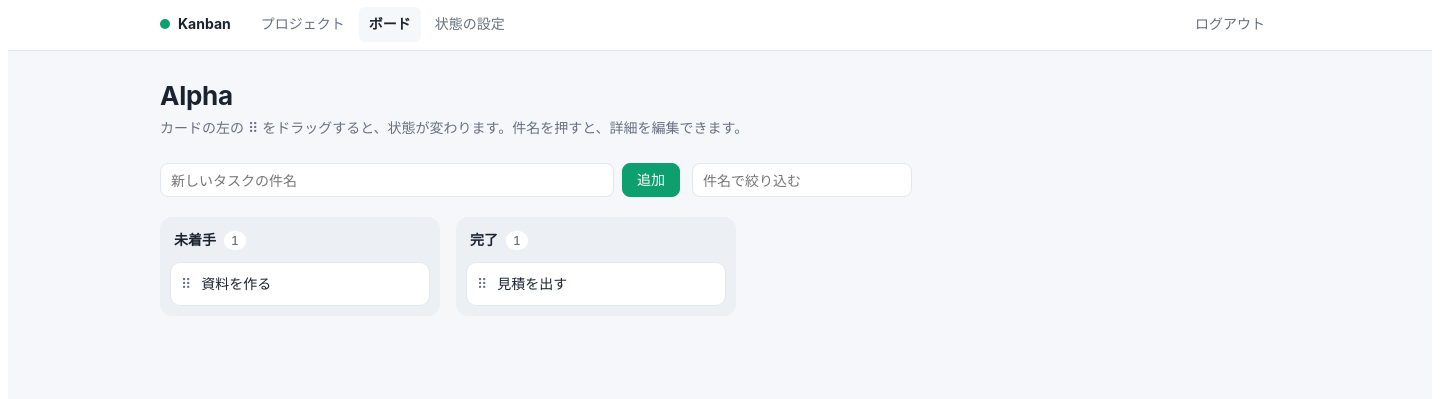
Test: board: shows a lane per status, filters by title, adds to the first lane
The image size is (1440, 399).
Expected: the text "資料を作る" is shown, [201,275,271,292]
Expected: the element named "完了 1件" is shown, [456,217,736,316]
Type "見積" into the search field labelled "件名で絞り込む". click: (802, 180)
box: [692,163,912,197]
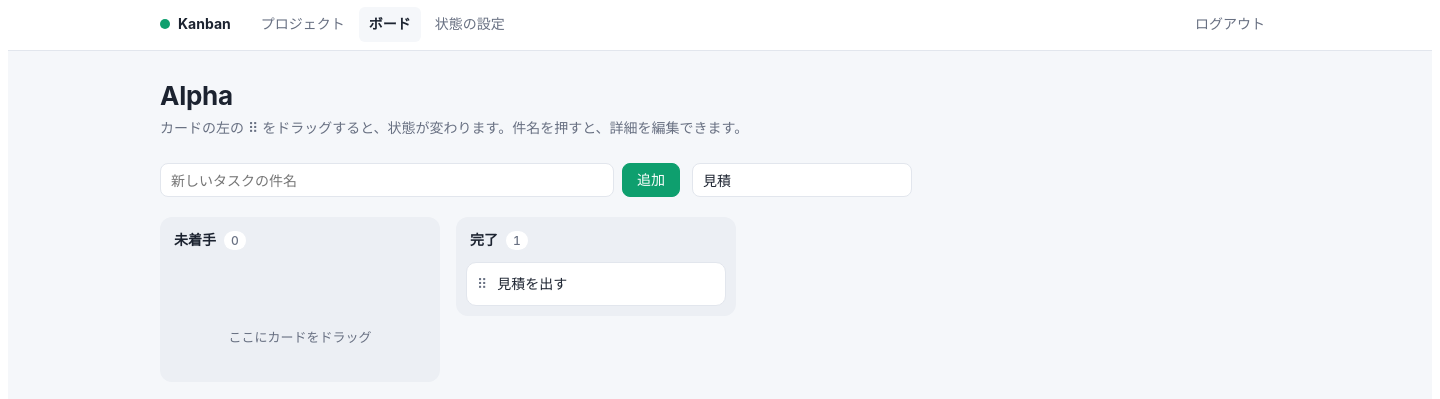
Now the link "資料を作る" is gone
Clear the search field named "件名で絞り込む". click: (802, 180)
box: [692,163,912,197]
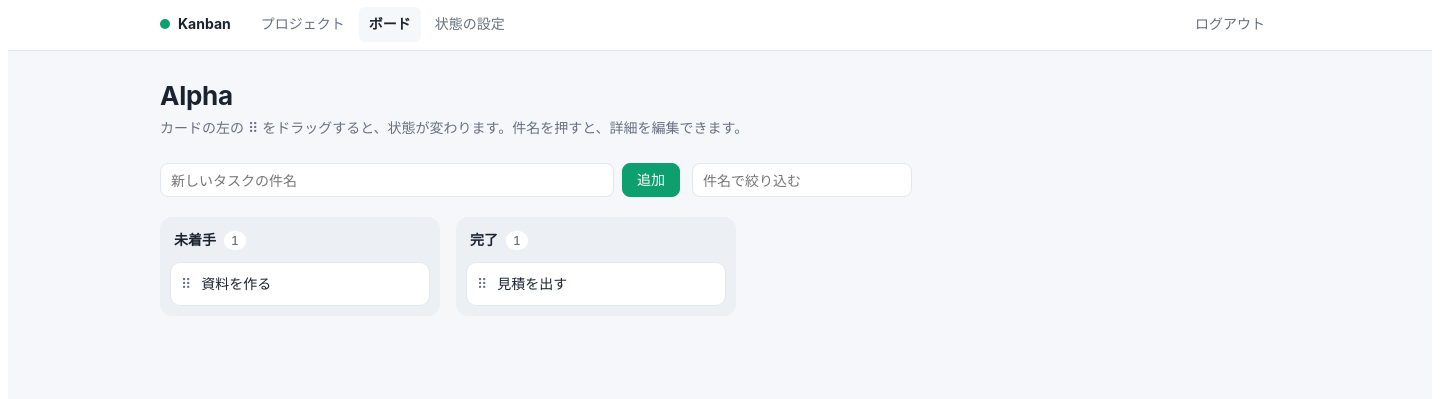
Type "会議" into the field with test id "new-task-title". click: (387, 180)
box: [160,163,614,197]
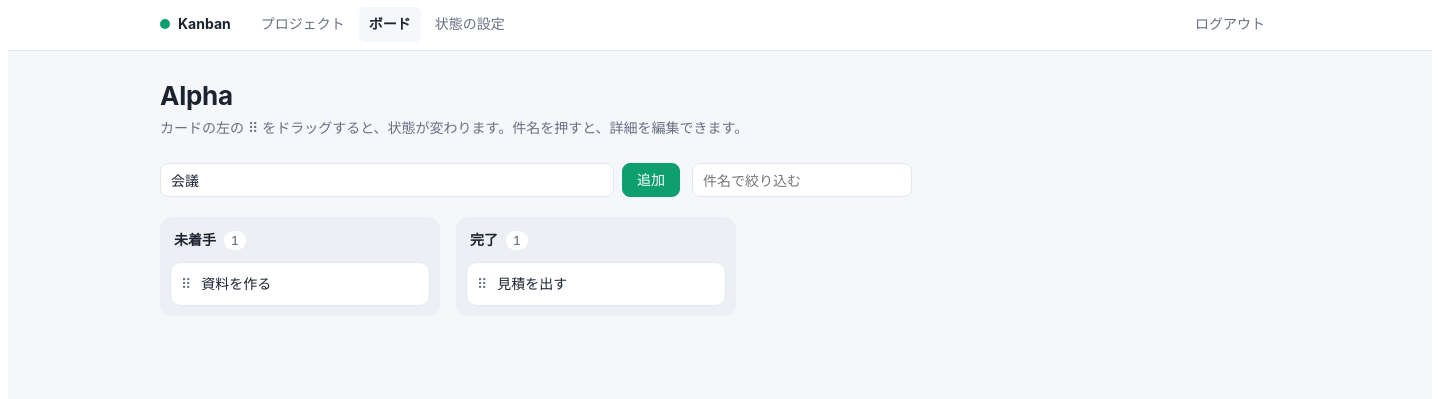
Click the button with test id "new-task-submit". click: (651, 180)
box: [622,163,680,197]
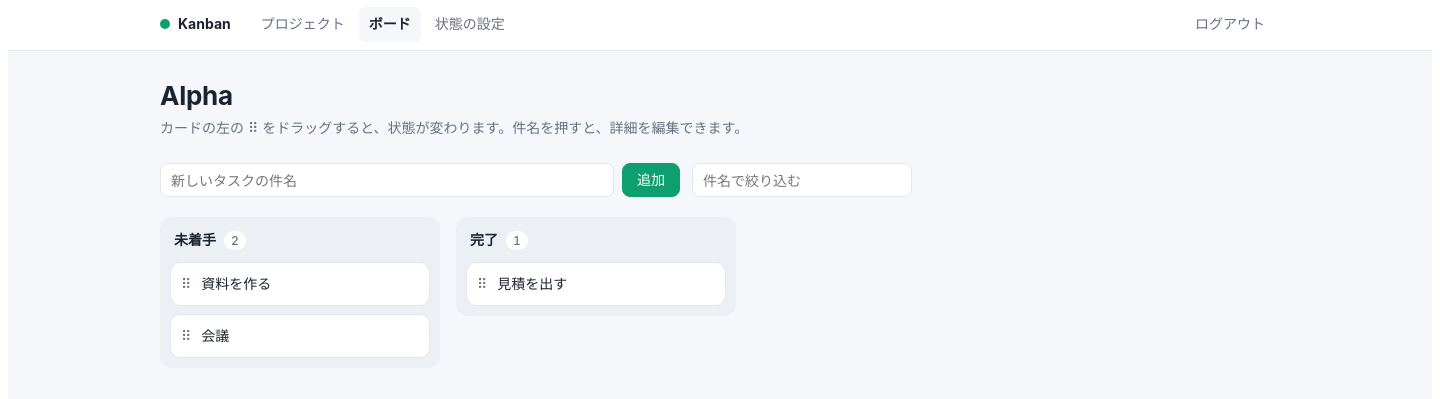
Now the element named "未着手 2件" is shown, box [160,217,440,368]
